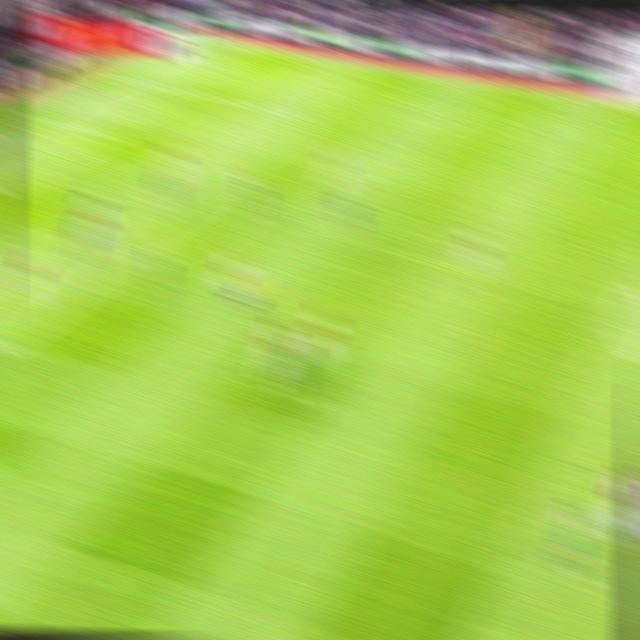bigarea_top_inner: (294, 106, 319, 125)
bigarea_top_outter: (108, 71, 134, 85)
bottom_arc_area_intersection: (108, 251, 134, 269)
corner: (193, 32, 217, 44)
smallarea_top_inner: (92, 124, 119, 142)
smallarea_top_outter: (26, 108, 54, 127)
top_arc_area_intersection: (222, 161, 248, 181)
